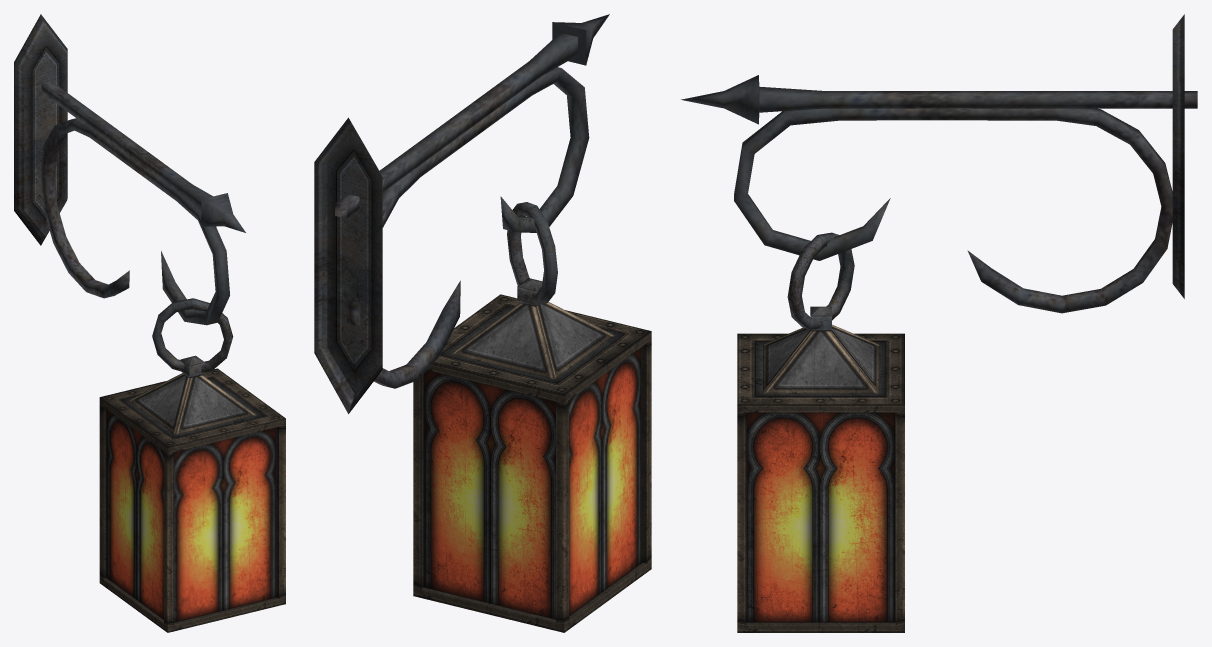
File: lamp1.fbx
3 renders of one model, left to right at view 1: azimuth 30°, elevation 25°; view 2: azimuth 150°, elevation 25°; view 3: azimuth 270°, elevation 25°, orthographic. The views are drawn at different scales.
Parts seen in each view (by area): view 1: polySurface1027; view 2: polySurface1027; view 3: polySurface1027.
Part boxes in pixels (left/top/right/bottom): polySurface1027: left=14, top=14, right=285, bottom=632; polySurface1027: left=314, top=14, right=651, bottom=632; polySurface1027: left=681, top=14, right=1197, bottom=632.
Bounding box in the file's own units: 0.2138 × 0.8173 × 0.6594.
